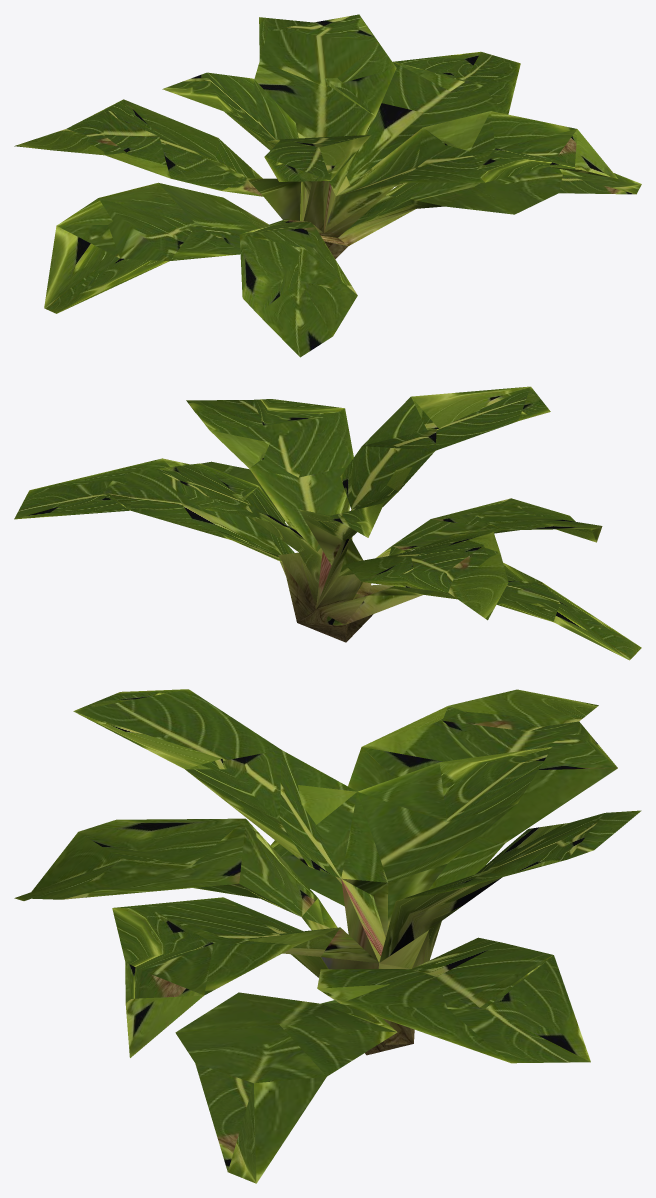
The model's file is co_broadleaf_cushion_lod1.glb.
3 renders of one model, top to bottom at view 1: azimuth 30°, elevation 25°; view 2: azimuth 150°, elevation 25°; view 3: azimuth 270°, elevation 25°, orthographic. The views are drawn at different scales.
Visible parts, largest first — view 1: output_unwrapped; view 2: output_unwrapped; view 3: output_unwrapped.
Part boxes in pixels (box(x1,y1,x2,y2)): output_unwrapped: box(14, 14, 641, 357); output_unwrapped: box(14, 386, 641, 660); output_unwrapped: box(14, 689, 641, 1183).
Bounding box in the file's own units: 1.86 × 0.6211 × 1.22.
1 material, 1 textured.
